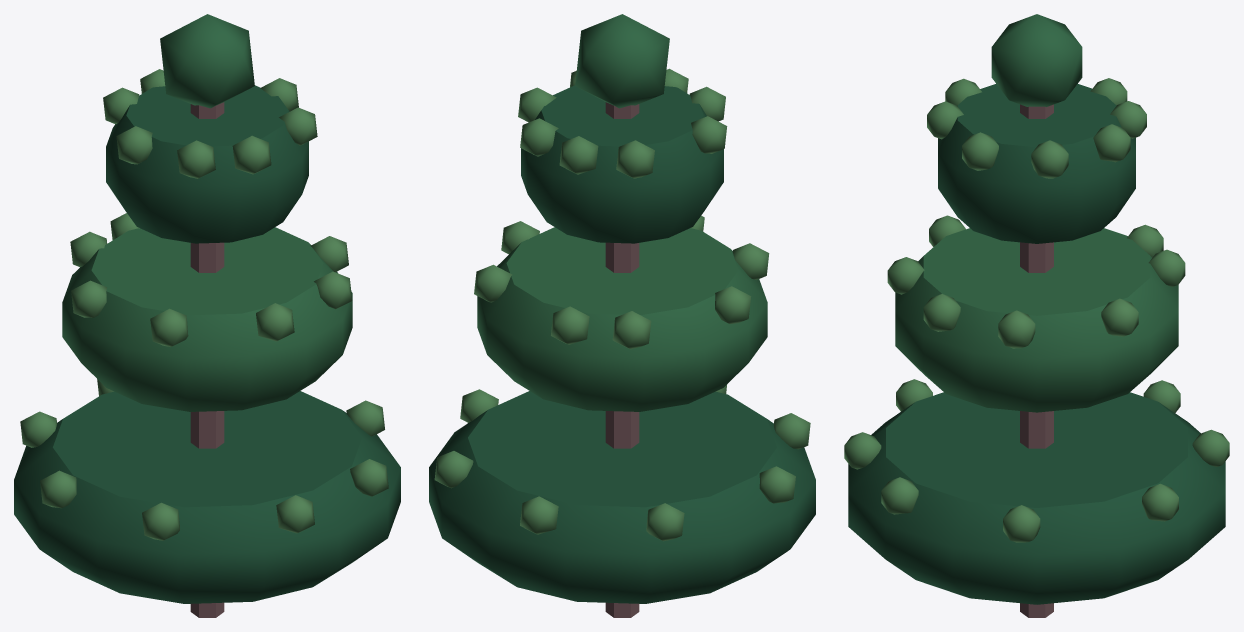
Rendered from topiary_tiered.glb.
3 views of the same model, side by side, from view 1: azimuth 30°, elevation 25°; view 2: azimuth 150°, elevation 25°; view 3: azimuth 270°, elevation 25° (orthographic).
Visible parts, largest first — view 1: topiary_tiered; view 2: topiary_tiered; view 3: topiary_tiered.
Boxes of the visible parts, x1,y1,x2,y2 form: topiary_tiered: (14,14,400,617); topiary_tiered: (429,14,815,617); topiary_tiered: (844,14,1229,617).
Size of what is drawn, in the model's own units: 1.6 by 2.72 by 1.59.
